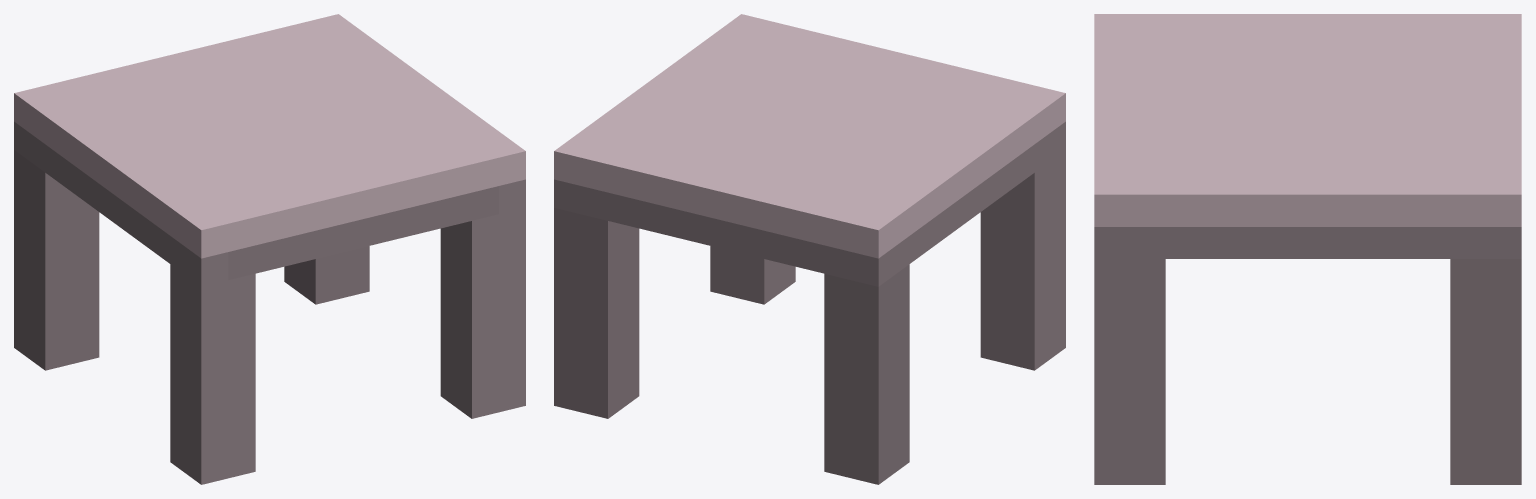
The model's file is mesa_bordado_desgastada_01.glb.
3 renders of one model, left to right at view 1: azimuth 30°, elevation 25°; view 2: azimuth 150°, elevation 25°; view 3: azimuth 270°, elevation 25°, orthographic. The views are drawn at different scales.
Parts seen in each view (by area): view 1: mesa_bordado_desgastada; view 2: mesa_bordado_desgastada; view 3: mesa_bordado_desgastada.
Part boxes in pixels (x1,y1,x2,y2): mesa_bordado_desgastada: [14, 14, 525, 484]; mesa_bordado_desgastada: [554, 14, 1065, 484]; mesa_bordado_desgastada: [1094, 14, 1521, 484].
Size of the model in its own units: 1 by 0.75 by 1.
